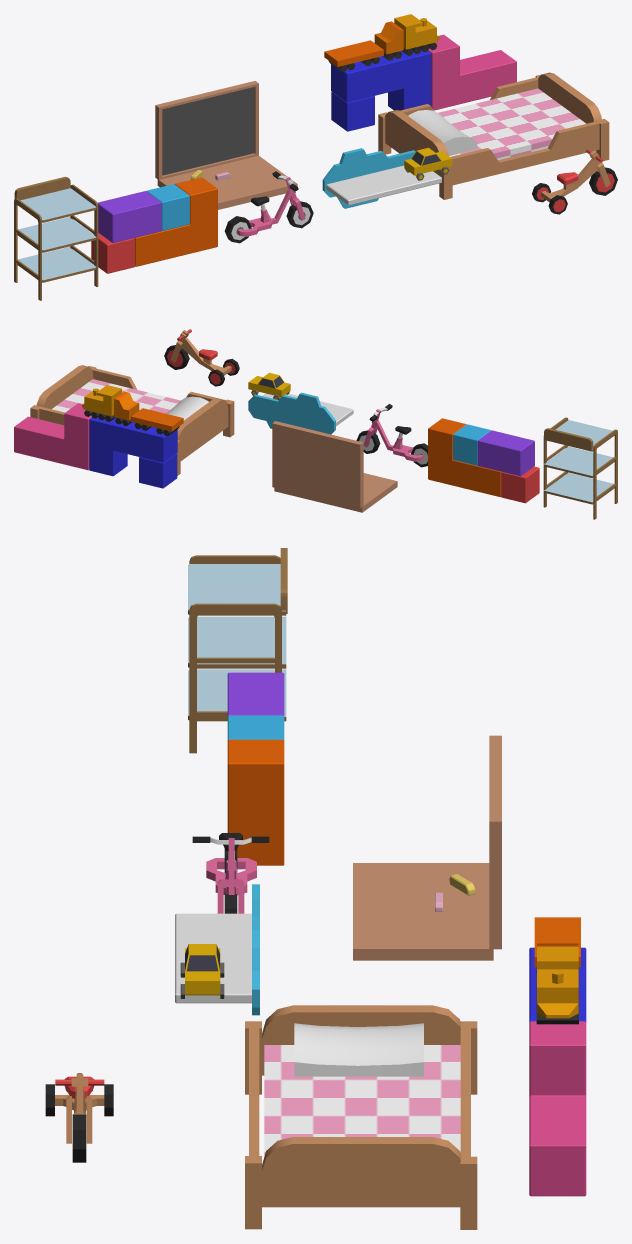
Rendered from Level_7.fbx.
3 views of the same model, one above another, from view 1: azimuth 30°, elevation 25°; view 2: azimuth 150°, elevation 25°; view 3: azimuth 270°, elevation 25° (orthographic). The views are drawn at different scales.
Parts seen in each view (by area): view 1: Bed6, Board2, Table, Cubs, Stand5, Cubs1, polySurface25, Train, polySurface24, Cycle, Tricycle, Pillow9 (+3 smaller); view 2: Board2, Bed6, Table, Cubs, Cubs1, polySurface25, Stand5, Train, polySurface24, Tricycle, Cycle, polySurface27 (+3 smaller); view 3: Bed6, Board2, Table, Cubs1, Pillow9, polySurface25, Stand5, Train, Tricycle, Cycle, polySurface24, Car (+2 smaller).
Boxes of the visible parts, x1=… form: Bed6: x1=378, y1=72, x2=609, y2=199; Board2: x1=155, y1=81, x2=297, y2=209; Table: x1=14, y1=176, x2=98, y2=300; Cubs: x1=331, y1=50, x2=431, y2=131; Stand5: x1=322, y1=148, x2=441, y2=208; Cubs1: x1=428, y1=34, x2=516, y2=110; polySurface25: x1=135, y1=177, x2=217, y2=266; Train: x1=324, y1=14, x2=439, y2=72; polySurface24: x1=97, y1=191, x2=161, y2=242; Cycle: x1=224, y1=171, x2=313, y2=243; Tricycle: x1=532, y1=149, x2=617, y2=214; Pillow9: x1=408, y1=110, x2=477, y2=155; Board2: x1=272, y1=421, x2=397, y2=512; Bed6: x1=30, y1=365, x2=234, y2=475; Table: x1=543, y1=417, x2=617, y2=519; Cubs: x1=89, y1=417, x2=177, y2=488; Cubs1: x1=14, y1=403, x2=91, y2=470; polySurface25: x1=428, y1=418, x2=501, y2=497; Stand5: x1=248, y1=392, x2=353, y2=434; Train: x1=82, y1=385, x2=183, y2=436; polySurface24: x1=477, y1=430, x2=534, y2=476; Tricycle: x1=164, y1=329, x2=239, y2=386; Cycle: x1=356, y1=404, x2=427, y2=467; polySurface27: x1=501, y1=466, x2=539, y2=503; Bed6: x1=245, y1=1005, x2=477, y2=1229; Board2: x1=353, y1=735, x2=501, y2=960; Table: x1=188, y1=548, x2=287, y2=753; Cubs1: x1=529, y1=1021, x2=586, y2=1196; Pillow9: x1=294, y1=1023, x2=423, y2=1076; polySurface25: x1=227, y1=739, x2=284, y2=865; Stand5: x1=175, y1=884, x2=259, y2=1015; Train: x1=534, y1=917, x2=580, y2=1024; Tricycle: x1=45, y1=1073, x2=113, y2=1162; Cycle: x1=192, y1=833, x2=269, y2=913; polySurface24: x1=227, y1=672, x2=284, y2=715; Car: x1=180, y1=944, x2=224, y2=998.
Bounding box in the file's own units: 17.83 × 3.03 × 8.09.
Materials: 36 (1 with a texture image).
